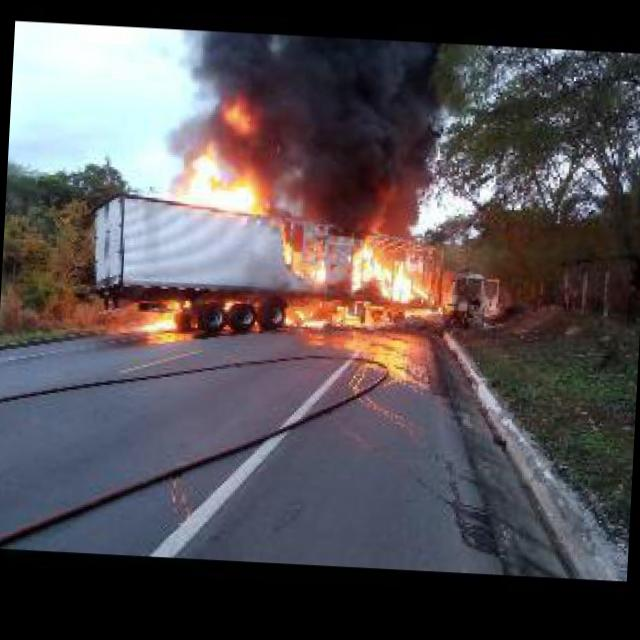fire: (177, 142, 264, 216), (353, 242, 439, 303), (280, 244, 330, 282), (223, 102, 253, 132), (288, 308, 328, 328), (332, 304, 364, 324), (405, 304, 445, 318), (142, 318, 178, 331)
smoke: (264, 56, 462, 245), (123, 28, 235, 156)
